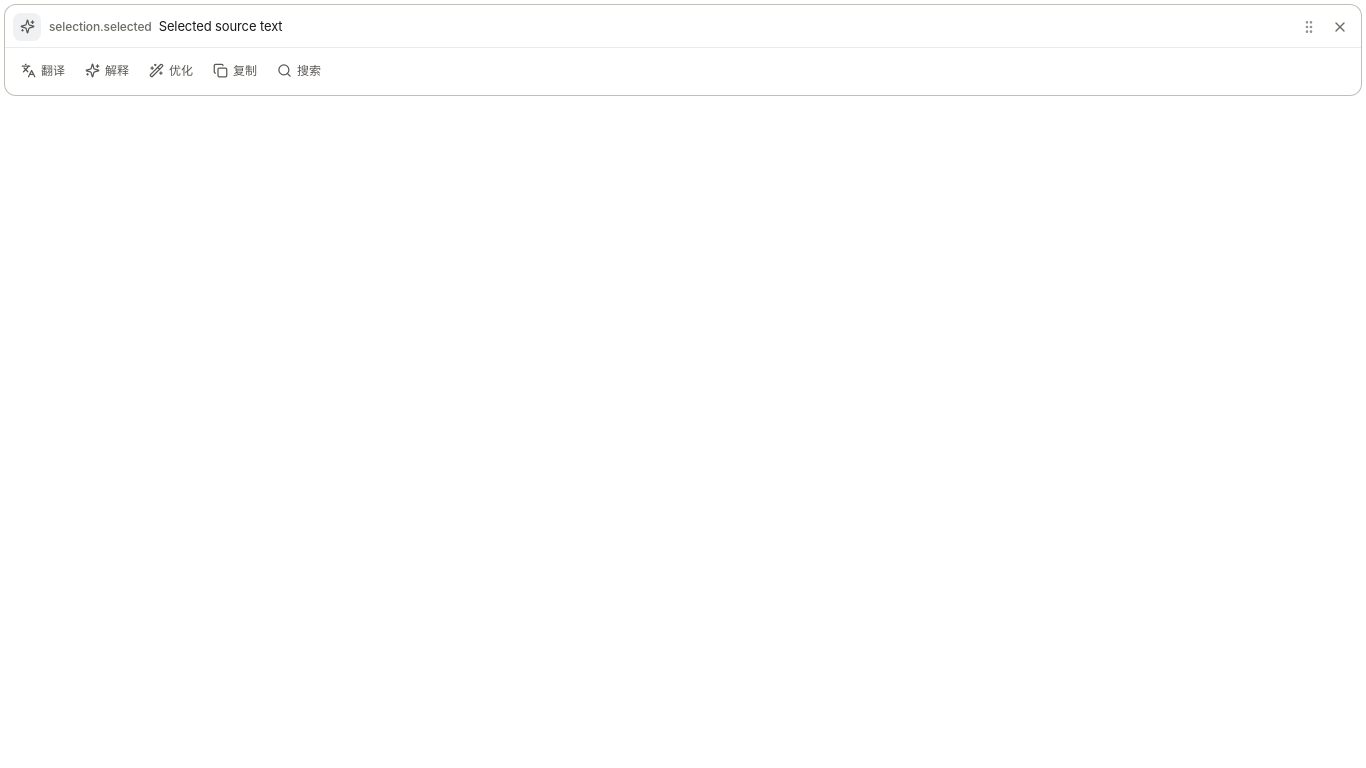
Scenario: SelectionOverlay streaming › still shows the final result when stream listener registration fails
This screenshot has width=1366, height=768.
Click the button "翻译": (43, 70) 12,54 -> 74,88
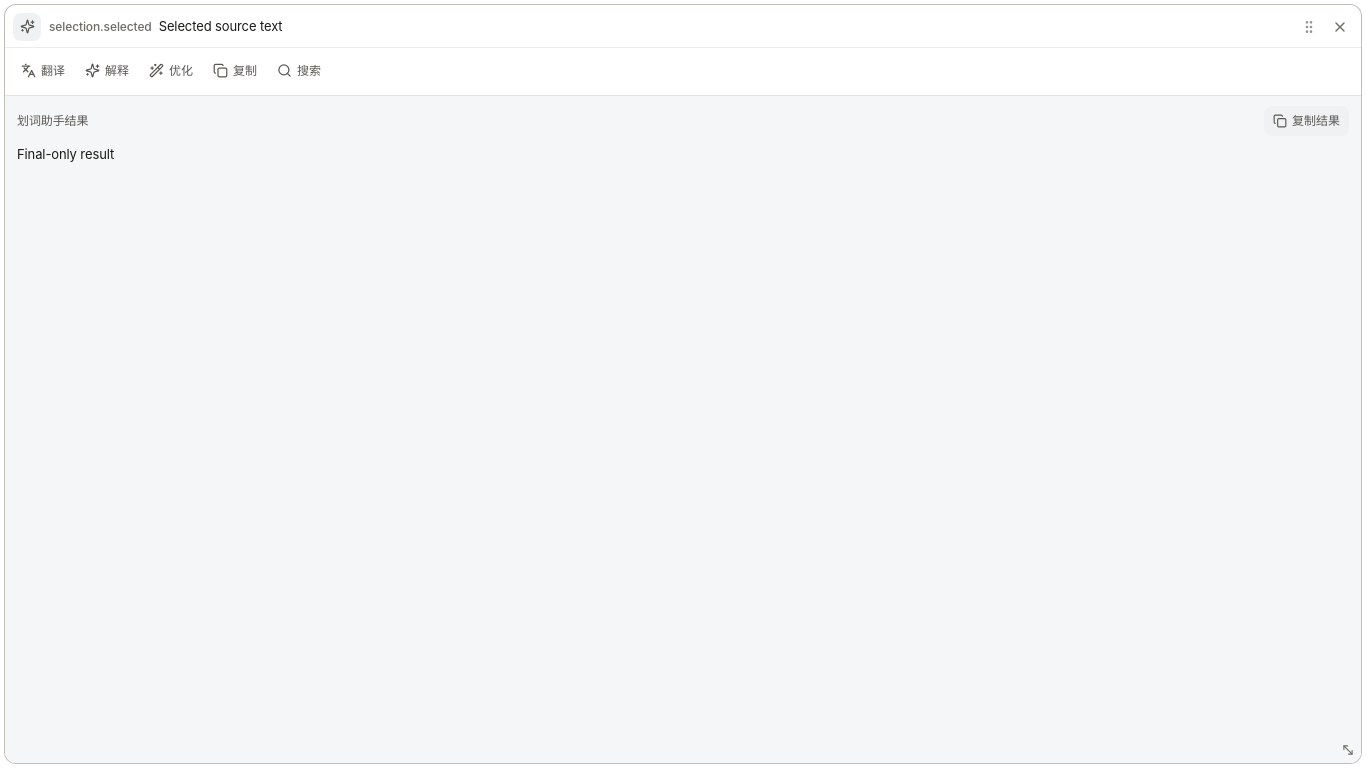
Expected: the text "Final-only result" is shown, 17,146 -> 114,162
